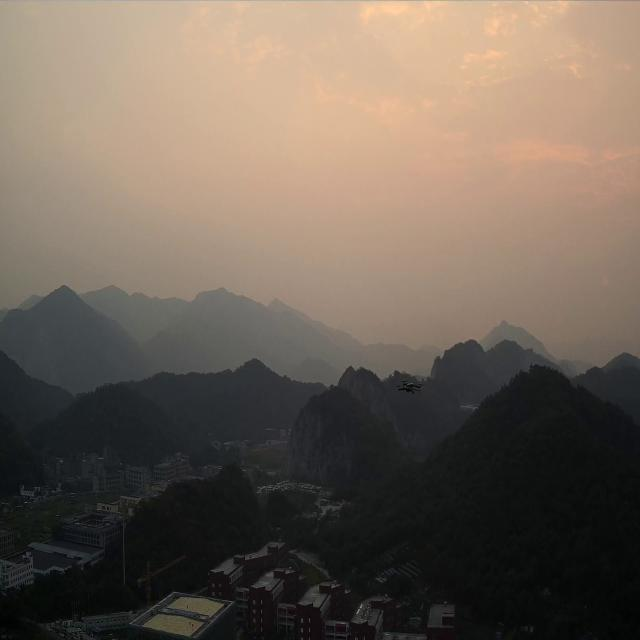drone: (396, 380, 424, 393)
